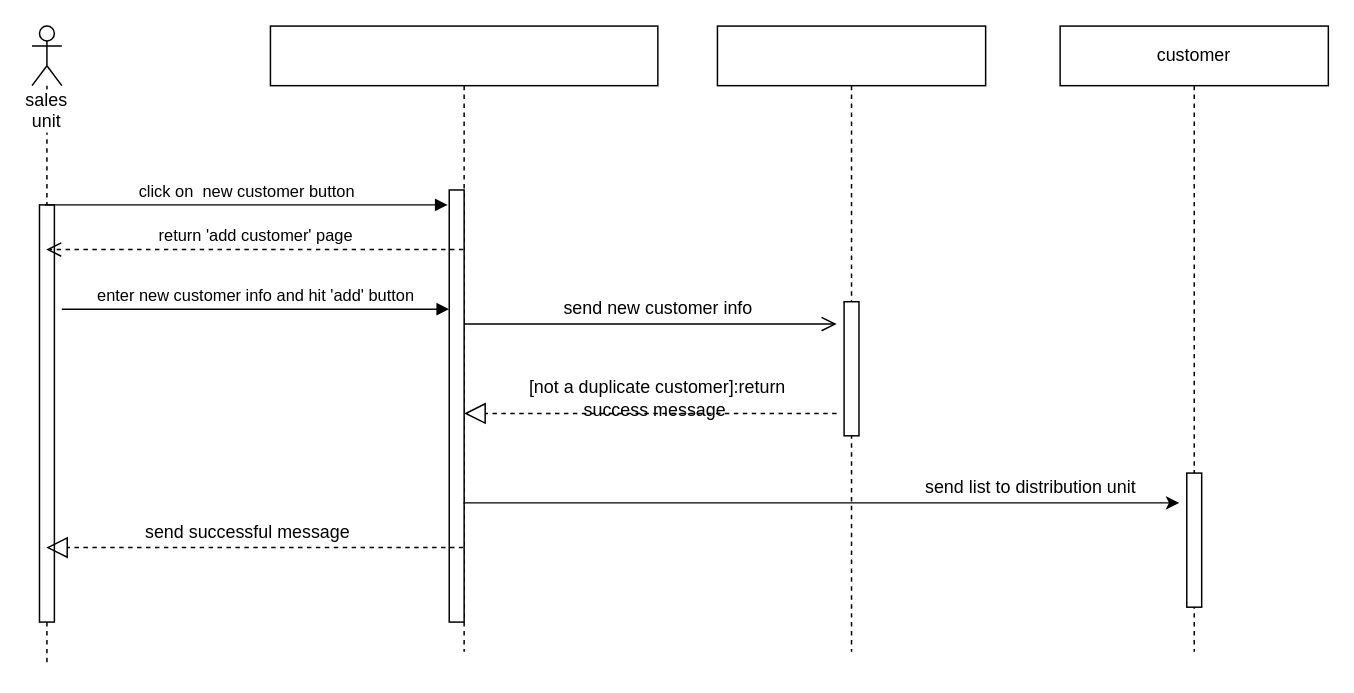
This 1354x693 diagram has some shape labels left out. Each missing label, with the box of its shape:
contract: (716, 25, 986, 652)
warehouse keeping system: (269, 25, 658, 652)
